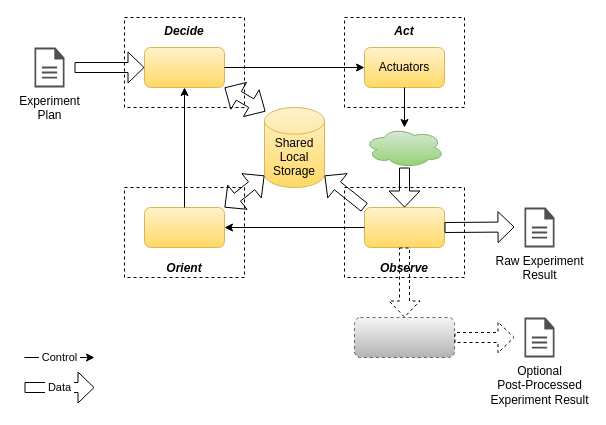
The diagram is 606 pixels wide and 425 high, and some of its shapes have lost their labels. Here are the shapes that lost their labels. From the top down, the centre of each, then its label:
At point 184,67: "Controller".
At point 404,147: "Test".
At point 184,227: "Analyser".
At point 404,227: "Sensors".
At point 404,337: "Optional Post-Processing".
